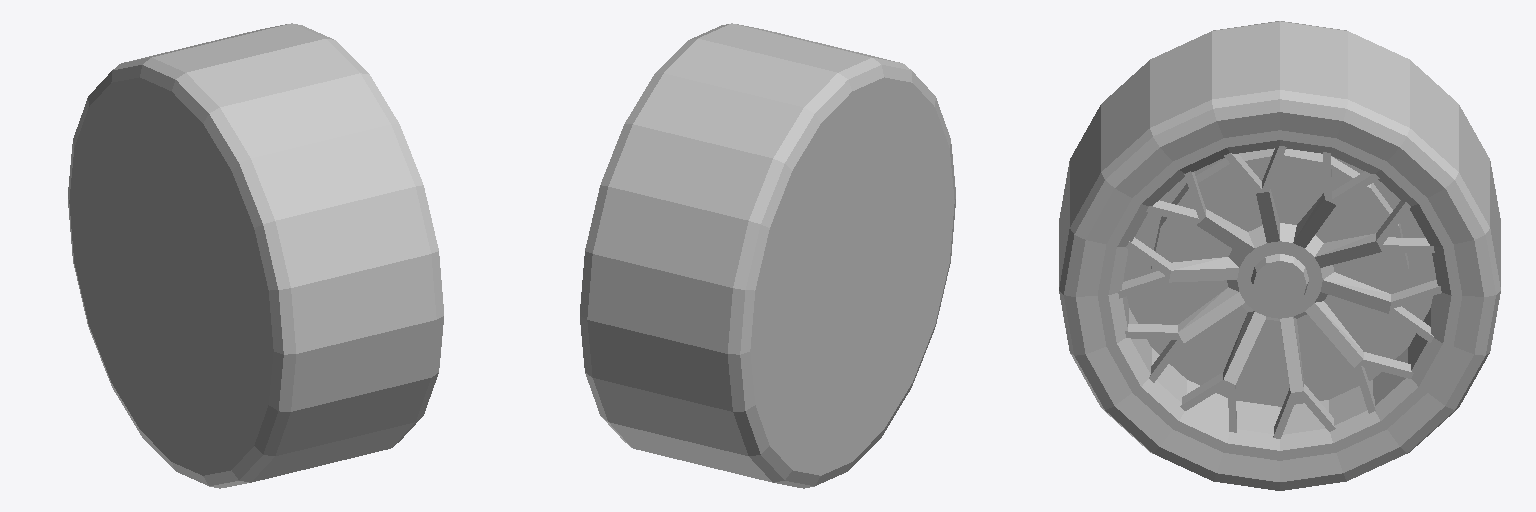
Rendered from Llanta2.obj.
The picture shows the model from 3 angles: view 1: azimuth 30°, elevation 25°; view 2: azimuth 150°, elevation 25°; view 3: azimuth 270°, elevation 25°; orthographic projection.
Visible parts, largest first — view 1: Llanta3:Mesh; view 2: Llanta3:Mesh; view 3: Llanta3:Mesh.
Part boxes in pixels (bbox=[...]): Llanta3:Mesh: bbox=[68, 23, 443, 488]; Llanta3:Mesh: bbox=[580, 23, 955, 488]; Llanta3:Mesh: bbox=[1059, 21, 1500, 490].
Bounding box in the file's own units: 0.5443 × 1.23 × 1.23.